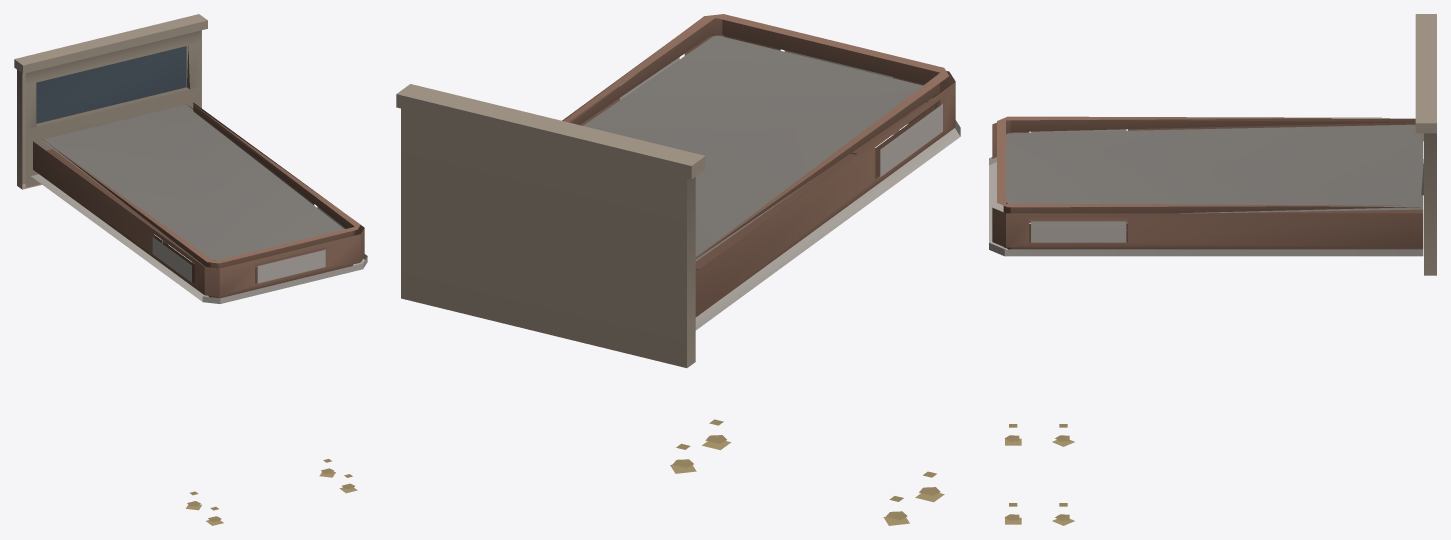
File: canopy.lod.glb
3 renders of one model, left to right at view 1: azimuth 30°, elevation 25°; view 2: azimuth 150°, elevation 25°; view 3: azimuth 270°, elevation 25°, orthographic. The views are drawn at different scales.
Parts seen in each view (by area): view 1: canopy.001; view 2: canopy.001; view 3: canopy.001.
Boxes of the visible parts, x1,y1,x2,y2 form: canopy.001: (14, 14, 367, 525); canopy.001: (396, 14, 960, 525); canopy.001: (989, 14, 1436, 525).
Size of the model in its own units: 2.31 by 4.07 by 4.
